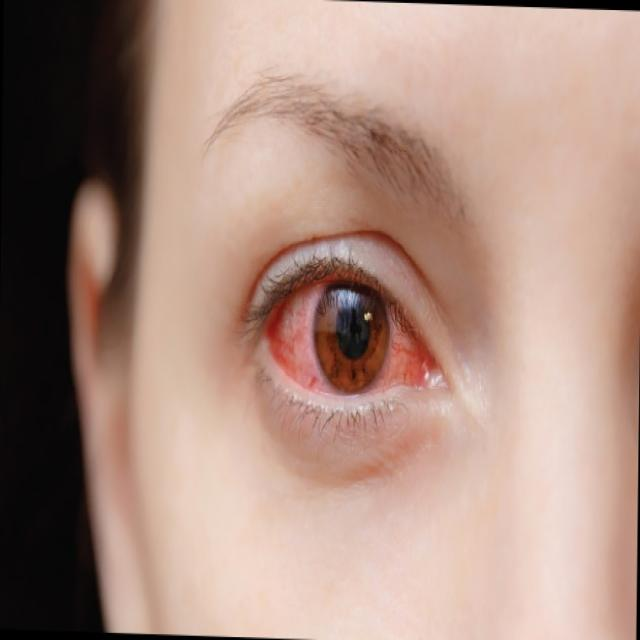Keratitis: (250, 251, 449, 438)
